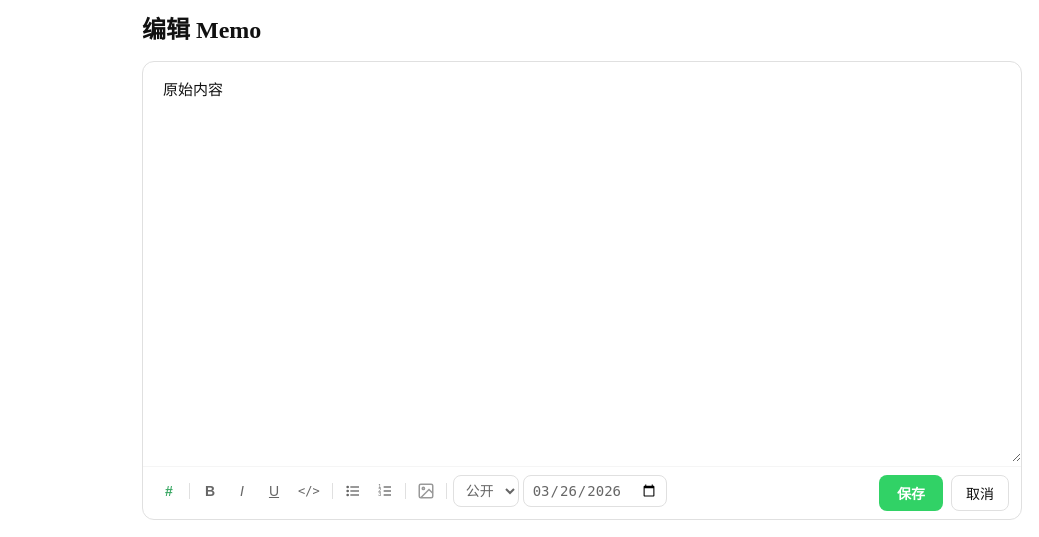
Test: MemoEditPage tag navigation › dismisses the tag dropdown on Escape and keeps it dismissed until the tag text changes
The width and height of the screenshot is (1039, 537).
Replace the text in the text box showing "原始内容" with "#" at coordinates (582, 262), box [143, 62, 1021, 462]
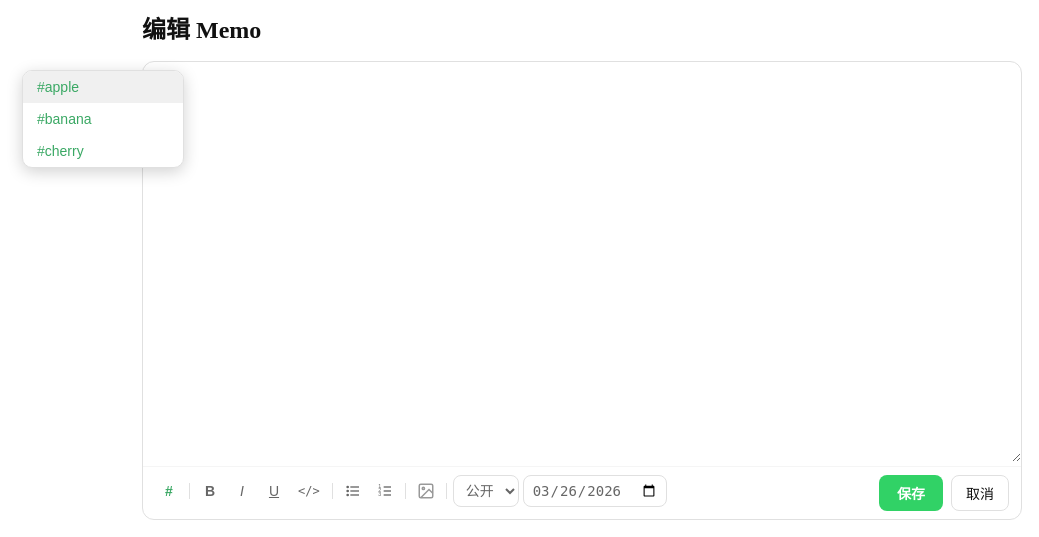
Expected: the button "#apple" is shown, [23, 71, 183, 103]
Press Escape
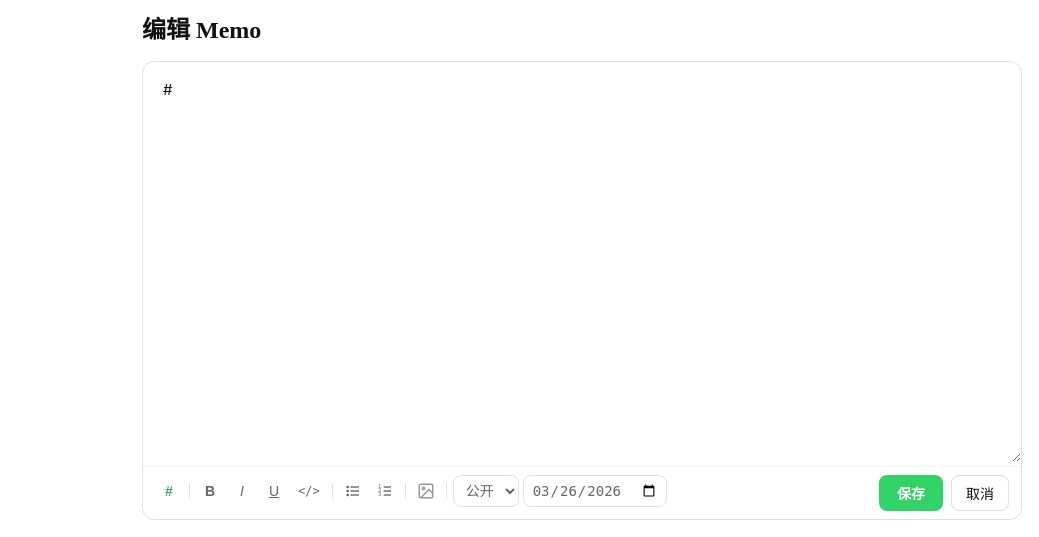
Expected: the button "#apple" is gone
Press a in the text box showing "原始内容"
Expected: the button "#apple" is not shown
Replace the text in the text box showing "原始内容" with "#a" at coordinates (582, 262), box [143, 62, 1021, 462]
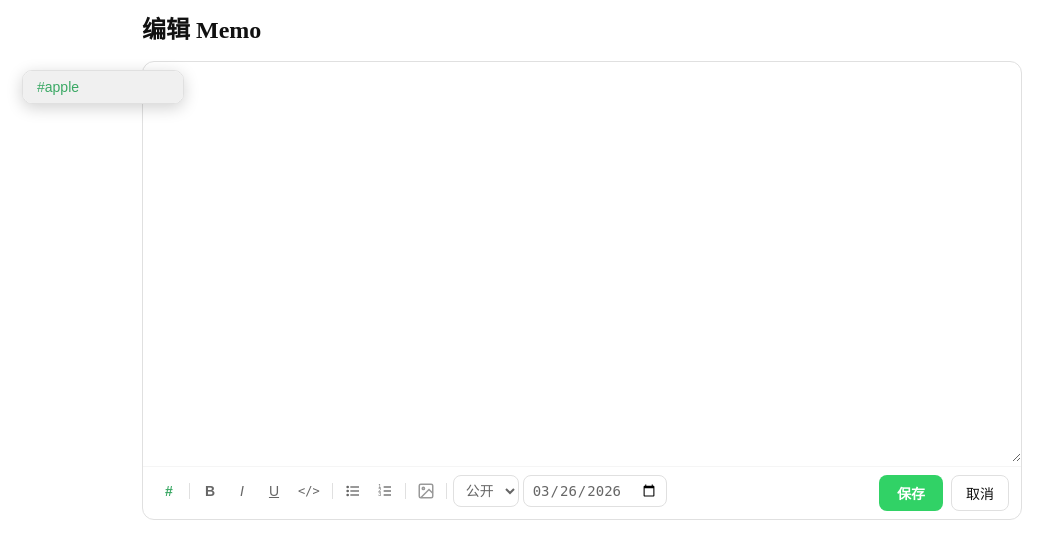
Expected: the button "#apple" is shown, [23, 71, 183, 103]
